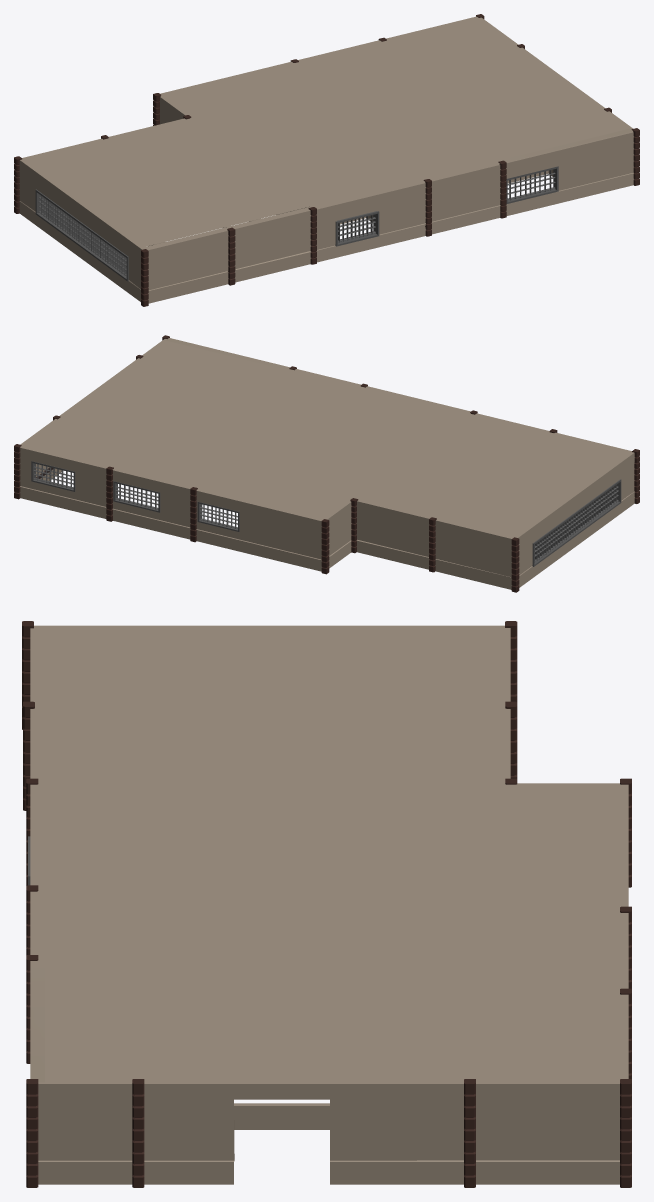
Rendered from LAb.fbx.
3 views of the same model, one above another, from view 1: azimuth 30°, elevation 25°; view 2: azimuth 150°, elevation 25°; view 3: azimuth 270°, elevation 25° (orthographic). The views are drawn at different scales.
Visible parts, largest first — view 1: Plane.001, Janela 4, Colunas; view 2: Plane.001, Janela 4, Colunas; view 3: Plane.001, Colunas.
Boxes of the visible parts, x1,y1,x2,y2 form: Plane.001: (19,16,633,303); Janela 4: (35,166,558,281); Colunas: (14,14,639,306); Plane.001: (20,338,634,589); Janela 4: (31,461,621,566); Colunas: (14,335,639,592); Plane.001: (30,625,628,1184); Colunas: (22,621,631,1187).
Size of the model in its own units: 34210 by 3585 by 19053.
3 materials, 1 textured.
